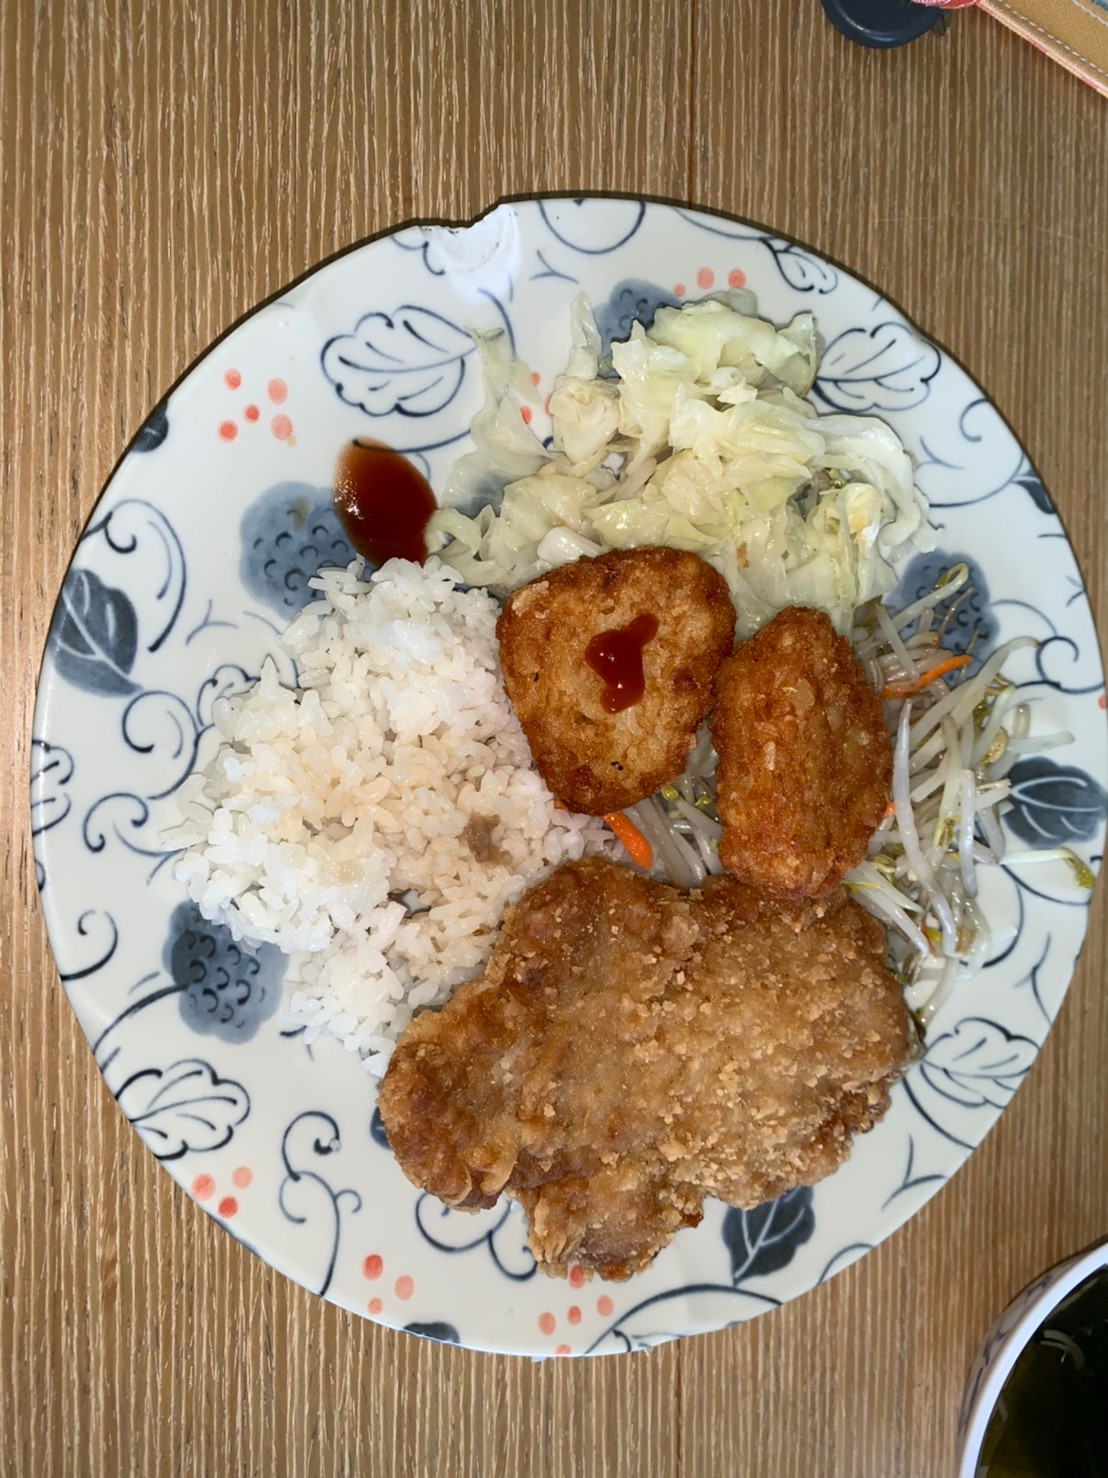chinese_cabbage: (531, 300, 887, 584)
fried_chicken: (377, 887, 897, 1252)
mung_bean_sprouts: (876, 596, 1016, 960)
rice: (208, 570, 526, 999)
triangle_hash_brown: (513, 555, 879, 891)
